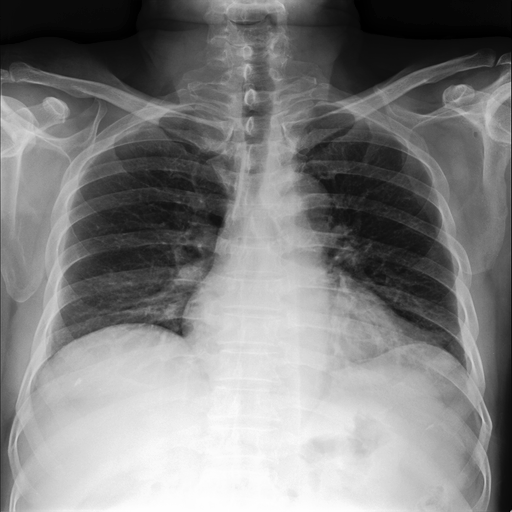Consolidation: (267, 171, 334, 258)
Nodule/Mass: (179, 291, 416, 341)
